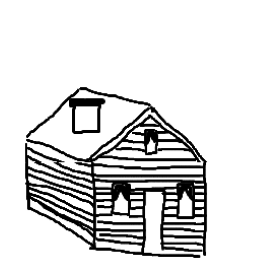bottom_placed_house: (3, 1, 260, 260)
chimney: (67, 92, 108, 140)
door: (141, 187, 168, 259)
open_window: (106, 179, 137, 217), (172, 173, 197, 220), (141, 128, 161, 158)
roof: (21, 78, 213, 168)
wall: (86, 107, 213, 259)
